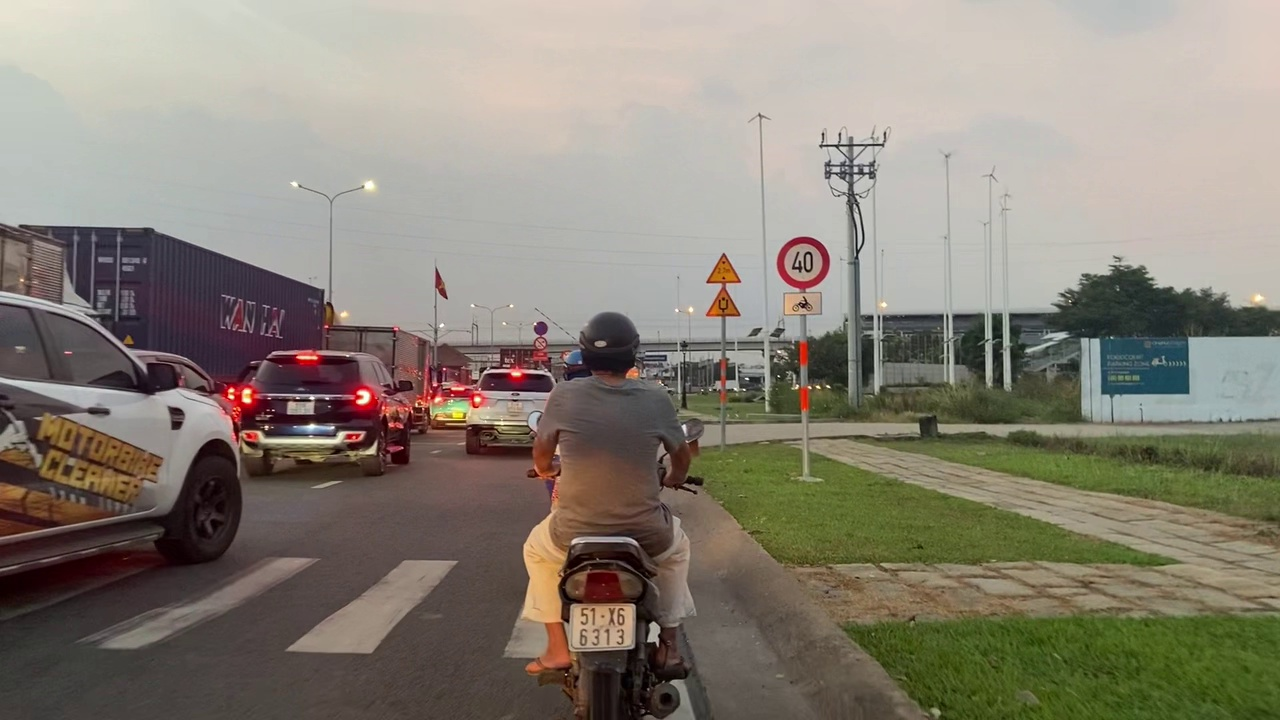gioi_han_40km: (775, 235, 832, 290)
